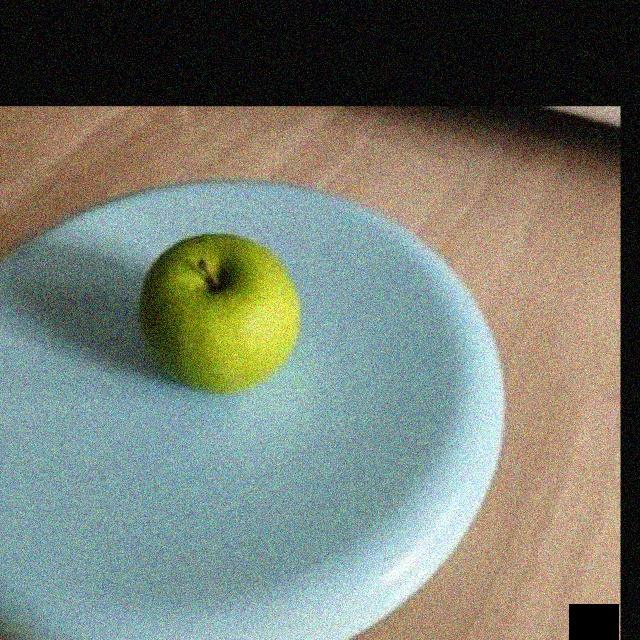green apple: (138, 233, 306, 396)
